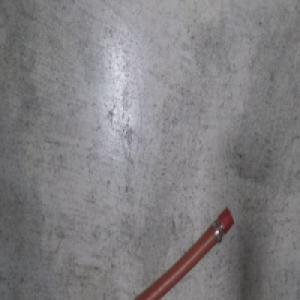Hose: (123, 205, 235, 300)
